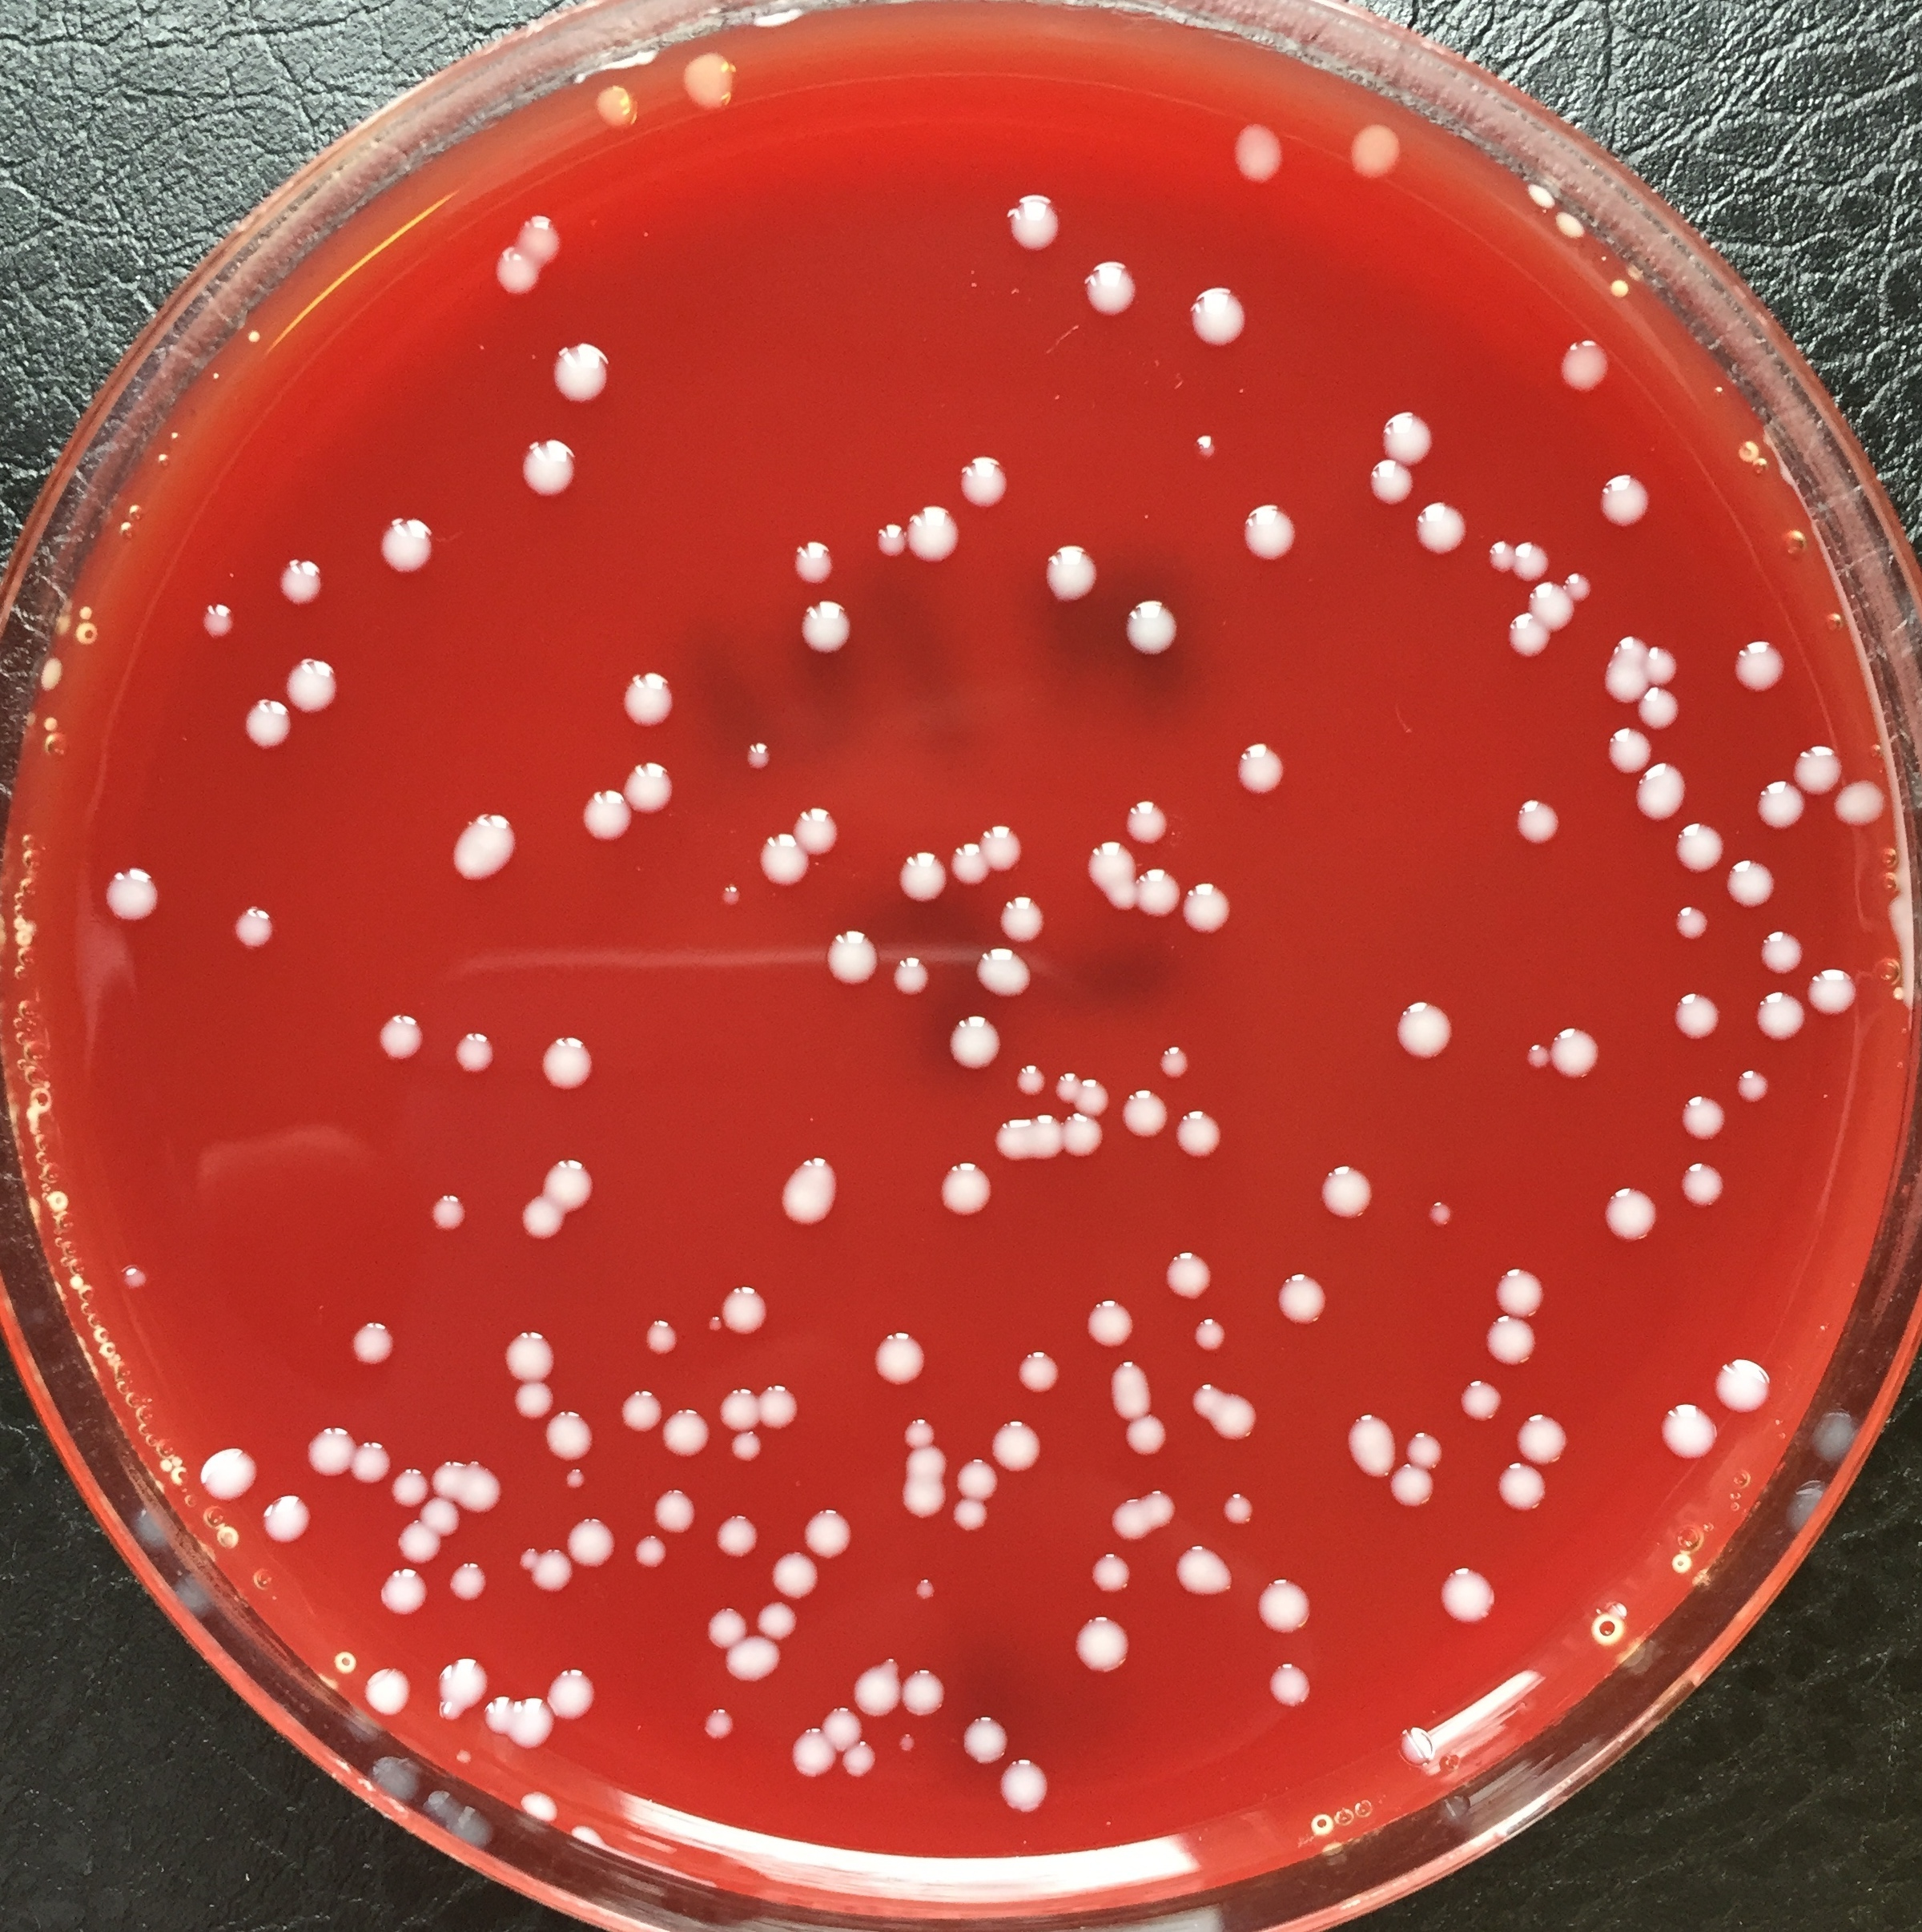sp22: (435, 784, 530, 903), (84, 831, 165, 939), (669, 30, 753, 122), (363, 509, 447, 594), (1424, 1550, 1505, 1634), (1334, 113, 1412, 197), (512, 412, 581, 507), (1075, 252, 1155, 333), (987, 174, 1065, 257), (1248, 1552, 1318, 1640), (1177, 277, 1267, 345), (1584, 465, 1665, 541), (1223, 497, 1308, 569), (778, 1143, 845, 1233), (917, 1150, 994, 1228), (1380, 992, 1456, 1071), (1619, 759, 1700, 828), (1119, 585, 1188, 664), (1299, 1159, 1373, 1231), (1549, 331, 1619, 407), (789, 604, 857, 682), (1742, 771, 1822, 838), (229, 685, 292, 768), (1273, 1263, 1338, 1342), (1223, 733, 1306, 794), (542, 331, 616, 398), (218, 888, 285, 960), (537, 1021, 604, 1094), (1220, 120, 1281, 197), (1658, 1388, 1718, 1467), (1068, 1610, 1135, 1680), (1540, 1016, 1605, 1088), (1169, 412, 1243, 476), (1042, 525, 1105, 599), (1704, 1349, 1778, 1412), (253, 1492, 320, 1559), (1172, 1545, 1239, 1610), (1732, 634, 1802, 696), (282, 645, 347, 710), (364, 997, 428, 1064), (718, 1273, 780, 1342), (1660, 824, 1728, 886), (489, 1330, 574, 1379), (1832, 768, 1896, 833), (1484, 1460, 1545, 1527), (906, 505, 966, 574), (1264, 1654, 1325, 1719), (625, 757, 685, 824), (1496, 606, 1558, 669), (1079, 1545, 1139, 1610), (185, 1441, 253, 1497), (1672, 1090, 1728, 1159), (1410, 497, 1480, 551), (1362, 449, 1424, 511), (1477, 1309, 1540, 1368), (1598, 1187, 1654, 1254), (972, 944, 1038, 1000), (1380, 402, 1441, 461), (1665, 986, 1727, 1046), (1487, 1257, 1549, 1317), (625, 659, 676, 729), (1079, 1293, 1139, 1353), (943, 1011, 1001, 1073), (818, 926, 875, 990), (584, 79, 635, 148), (433, 1650, 484, 1719), (959, 451, 1014, 514), (1163, 1238, 1218, 1302), (1524, 576, 1579, 639), (565, 784, 630, 837), (1343, 1409, 1394, 1476), (1505, 796, 1565, 852), (535, 1154, 597, 1208), (1718, 852, 1779, 907), (720, 1638, 792, 1684), (1757, 984, 1806, 1051), (180, 586, 234, 646), (1174, 1102, 1229, 1162), (1674, 1155, 1735, 1208), (757, 831, 810, 893), (766, 1546, 827, 1599), (278, 546, 329, 609), (341, 1312, 407, 1361), (996, 1756, 1045, 1821), (1510, 523, 1559, 588), (871, 1330, 929, 1384), (1669, 898, 1723, 956), (1104, 1361, 1156, 1421), (790, 796, 841, 858), (546, 1664, 600, 1721), (343, 1428, 396, 1486), (778, 535, 836, 588), (801, 1501, 854, 1559), (377, 1567, 435, 1620), (489, 247, 540, 306), (1410, 1184, 1470, 1235), (899, 847, 949, 909), (363, 1657, 407, 1726), (451, 1011, 496, 1076), (854, 1648, 899, 1714), (1600, 722, 1654, 777), (1811, 958, 1862, 1016), (1792, 733, 1850, 784), (1183, 877, 1230, 939), (417, 1184, 470, 1238), (996, 889, 1051, 942), (1515, 1409, 1574, 1458), (517, 199, 565, 259), (1753, 921, 1806, 974), (111, 1252, 165, 1303), (1121, 1087, 1170, 1143), (509, 1700, 556, 1758), (989, 1416, 1040, 1469), (547, 1409, 597, 1464), (727, 727, 774, 784), (567, 1515, 614, 1571), (1633, 689, 1693, 733), (662, 1407, 713, 1458), (961, 1714, 1009, 1768), (699, 1701, 746, 1756), (790, 1721, 834, 1779), (299, 1428, 347, 1481), (25, 643, 72, 694), (1063, 1117, 1111, 1168), (899, 1666, 945, 1719), (463, 1456, 507, 1511), (507, 1374, 554, 1423), (1082, 838, 1132, 886), (1459, 1372, 1505, 1423), (759, 1381, 804, 1432), (620, 1388, 665, 1439), (982, 821, 1024, 875), (1545, 203, 1593, 250), (1389, 1467, 1436, 1515), (1213, 1481, 1258, 1530), (1123, 1418, 1169, 1467), (708, 1508, 757, 1553), (1559, 565, 1609, 611), (892, 1569, 956, 1604), (1595, 615, 1649, 655), (639, 1314, 685, 1361), (1133, 868, 1179, 916), (514, 1786, 560, 1833), (396, 1523, 444, 1569), (521, 1199, 565, 1249), (952, 833, 987, 895), (1214, 1397, 1258, 1446), (1019, 1347, 1061, 1398), (820, 1700, 862, 1751), (649, 1486, 693, 1534), (1125, 798, 1169, 844), (899, 1479, 943, 1525), (702, 1604, 750, 1647), (447, 1560, 488, 1610), (1475, 527, 1512, 579), (956, 1458, 1000, 1502), (891, 951, 931, 999), (1141, 1483, 1179, 1532), (1401, 1428, 1443, 1472), (1105, 1492, 1142, 1541), (722, 1383, 759, 1432), (1644, 645, 1688, 685), (1077, 1067, 1116, 1113), (426, 1451, 465, 1497), (866, 520, 905, 565), (1600, 266, 1635, 313), (1031, 1108, 1063, 1161), (899, 1444, 949, 1478), (1095, 882, 1133, 925), (1605, 655, 1640, 701), (1010, 1058, 1047, 1101), (757, 1603, 799, 1640), (533, 1552, 570, 1594), (898, 1412, 942, 1448), (394, 1465, 426, 1513), (1732, 1064, 1772, 1101), (1186, 1375, 1223, 1416), (952, 1497, 989, 1537), (1192, 1314, 1227, 1356), (630, 1534, 669, 1571), (422, 1502, 463, 1537), (994, 1117, 1028, 1159), (1512, 173, 1551, 208), (1519, 1044, 1554, 1081), (1156, 1043, 1193, 1078), (896, 1726, 931, 1763), (841, 1744, 878, 1777), (1053, 1067, 1082, 1108), (730, 1430, 764, 1465), (486, 1691, 510, 1735), (715, 882, 743, 911), (558, 1467, 590, 1490), (451, 1745, 477, 1770), (517, 1546, 542, 1571), (699, 1314, 725, 1333)
